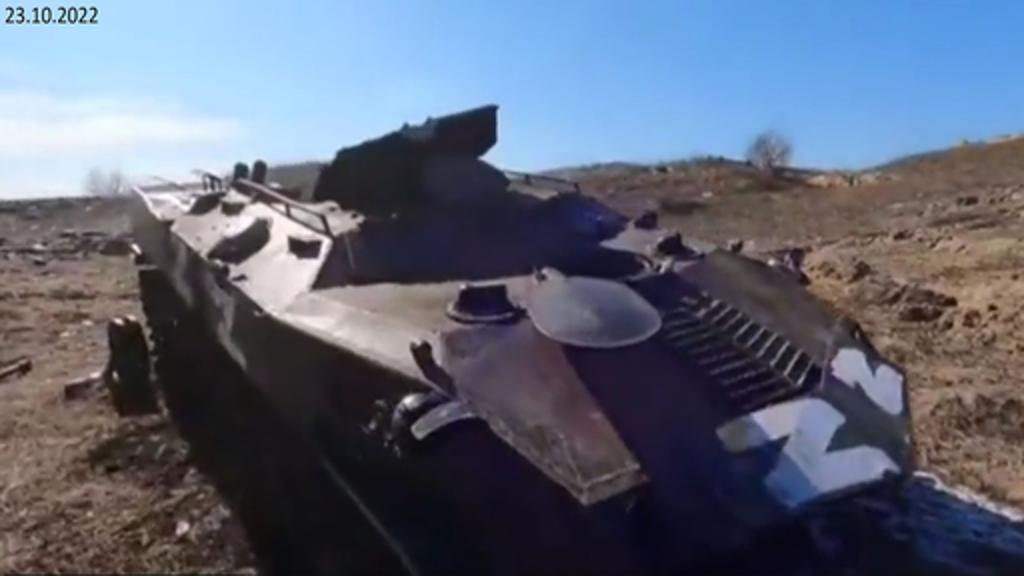APC-IFV: (120, 100, 916, 570)
